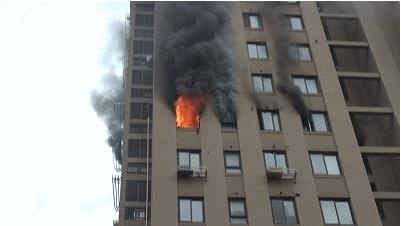fire: (173, 93, 203, 127)
